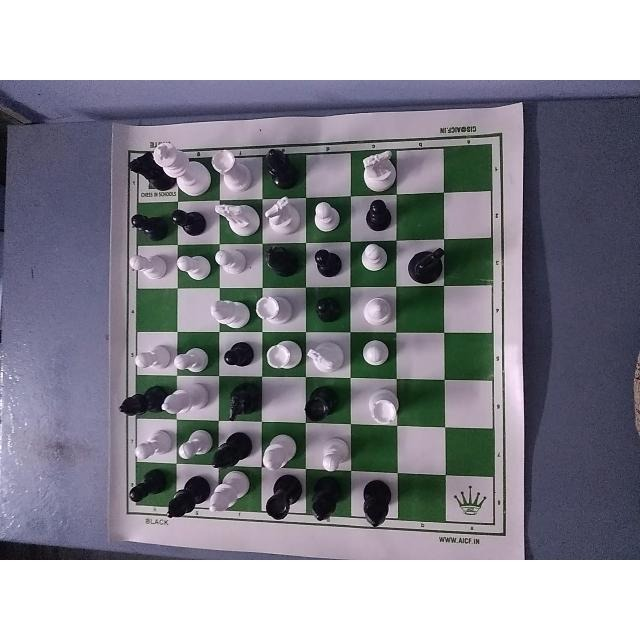black-bishop: (164, 471, 216, 525), (258, 143, 306, 195), (306, 474, 350, 526), (116, 382, 167, 425), (212, 423, 256, 470), (361, 476, 395, 530), (260, 244, 299, 286)
black-knight: (130, 146, 174, 197), (405, 242, 451, 284), (225, 382, 269, 424)
black-pawn: (125, 467, 171, 507), (170, 202, 214, 240), (130, 206, 174, 242), (357, 193, 397, 231), (309, 243, 347, 281), (222, 335, 262, 371), (312, 291, 347, 329)
black-rook: (261, 472, 307, 524), (305, 381, 347, 425)
white-bishop: (205, 467, 249, 518), (161, 379, 212, 419), (351, 288, 400, 328), (262, 425, 302, 473), (207, 292, 253, 332)
white-king: (152, 140, 213, 197)
white-knight: (307, 334, 351, 378), (260, 194, 304, 237), (215, 199, 260, 241), (361, 147, 397, 191)
white-pawn: (130, 422, 174, 464), (176, 420, 216, 464), (126, 248, 171, 284), (355, 335, 394, 374), (310, 194, 345, 234), (173, 346, 217, 376), (133, 342, 174, 374), (176, 246, 212, 282), (320, 433, 352, 472), (214, 245, 249, 275), (357, 239, 385, 275)
white-rook: (210, 143, 252, 193), (254, 290, 294, 332), (360, 391, 403, 425), (264, 337, 302, 369)
